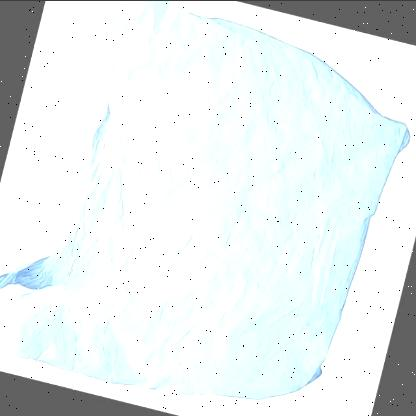Others: (0, 1, 410, 400)
